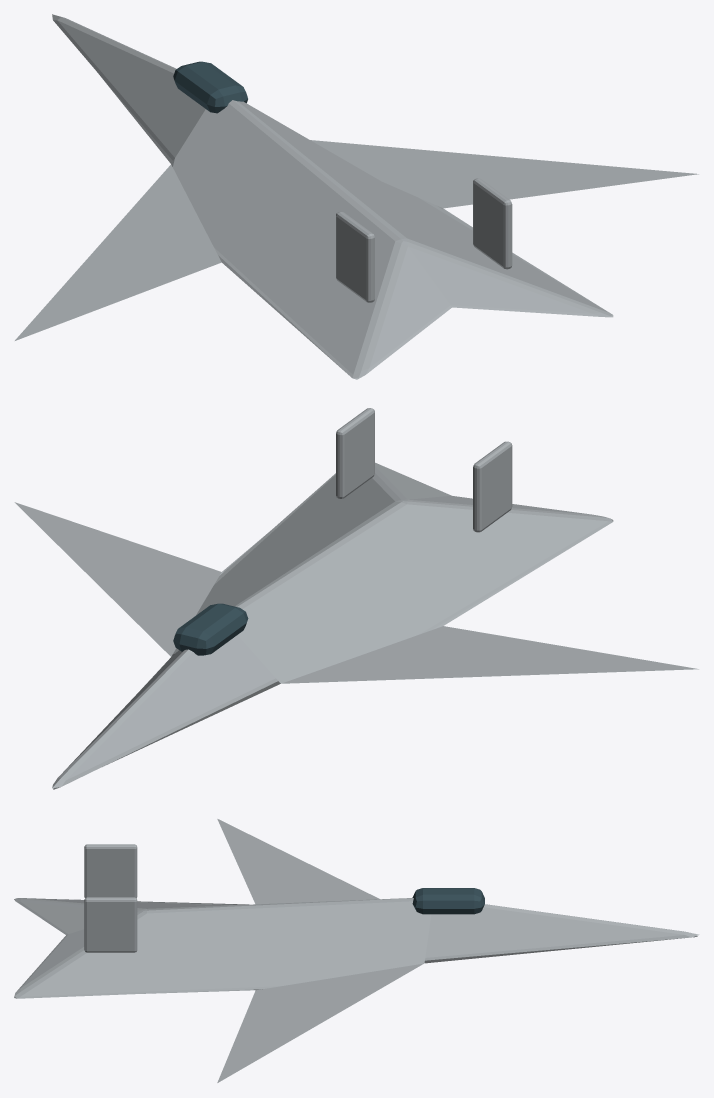
File: eastasia_kf21.glb
The picture shows the model from 3 angles, top to bottom: view 1: azimuth 30°, elevation 25°; view 2: azimuth 150°, elevation 25°; view 3: azimuth 270°, elevation 25°; orthographic projection. The views are drawn at different scales.
Visible parts, largest first — view 1: airframe, right_tail, left_tail, canopy; view 2: airframe, left_tail, right_tail, canopy; view 3: airframe, right_tail, left_tail, canopy.
Part boxes in pixels (left/top/right/bottom): airframe: left=15, top=14, right=698, bottom=379; right_tail: left=473, top=178, right=512, bottom=269; left_tail: left=336, top=212, right=374, bottom=302; canopy: left=173, top=61, right=247, bottom=113; airframe: left=14, top=462, right=698, bottom=789; left_tail: left=473, top=441, right=512, bottom=532; right_tail: left=336, top=408, right=374, bottom=498; canopy: left=173, top=603, right=248, bottom=655; airframe: left=14, top=819, right=699, bottom=1082; right_tail: left=84, top=897, right=137, bottom=952; left_tail: left=84, top=844, right=137, bottom=897; canopy: left=412, top=888, right=484, bottom=914.
Size of the model in its own units: 6.63 by 0.9282 by 7.25.
